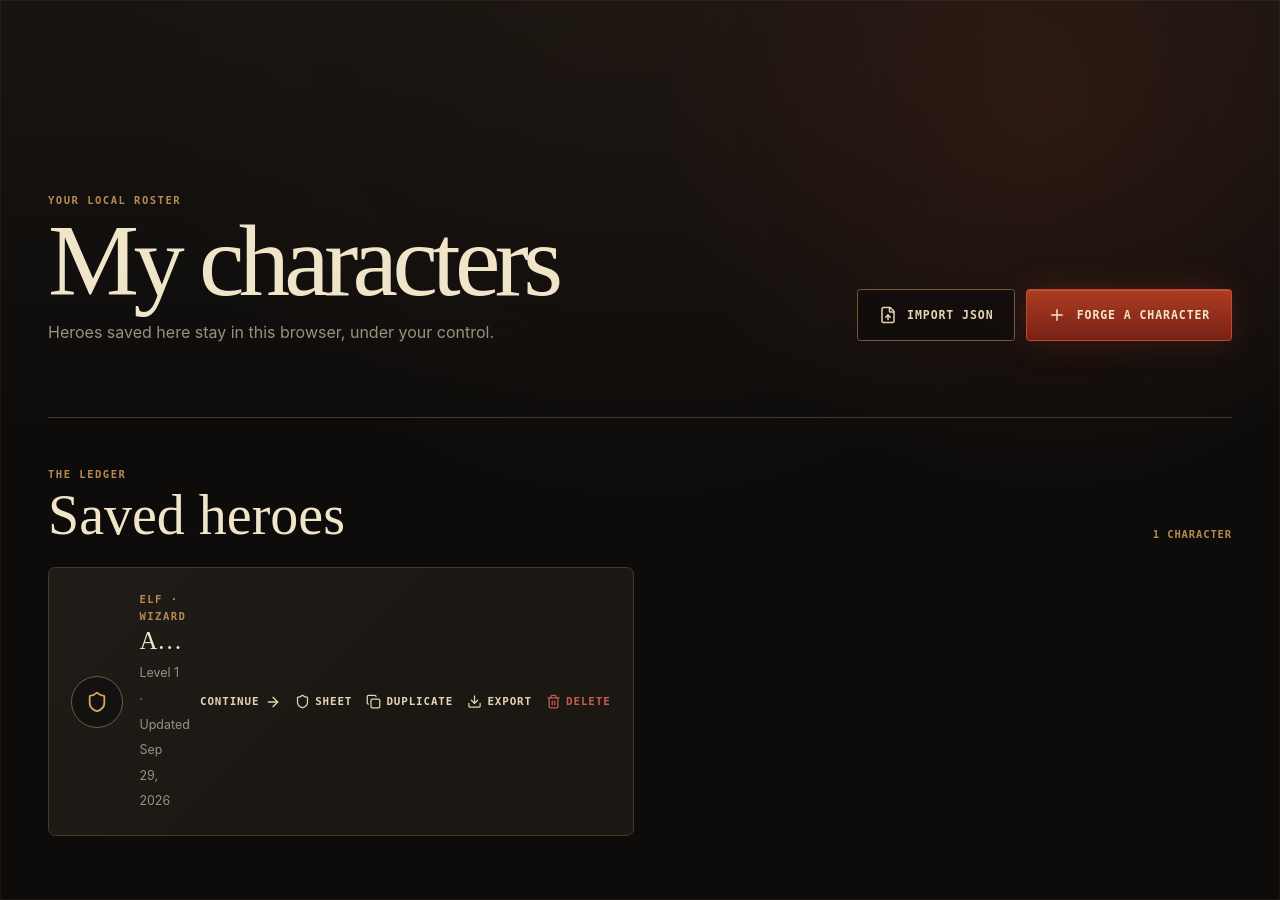
MyCharactersPage › keeps the source character when duplication fails
Click the button with aria-label "Duplicate Arannis".
click(410, 702)  # box [366, 694, 453, 709]
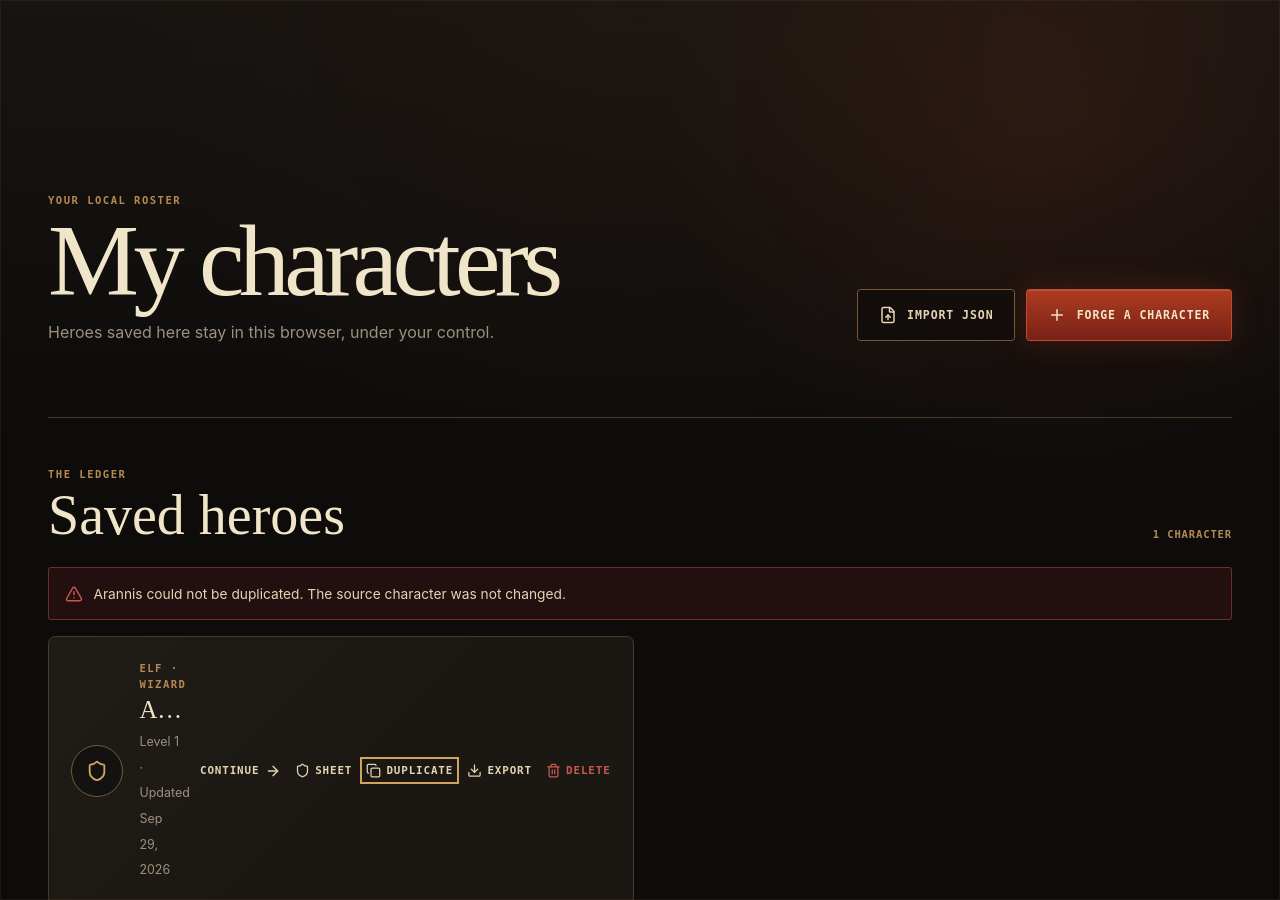
Check: the heading "Arannis" is shown, box [139, 696, 184, 724]
Check: the message shows "could not be duplicated", box [143, 586, 566, 602]
